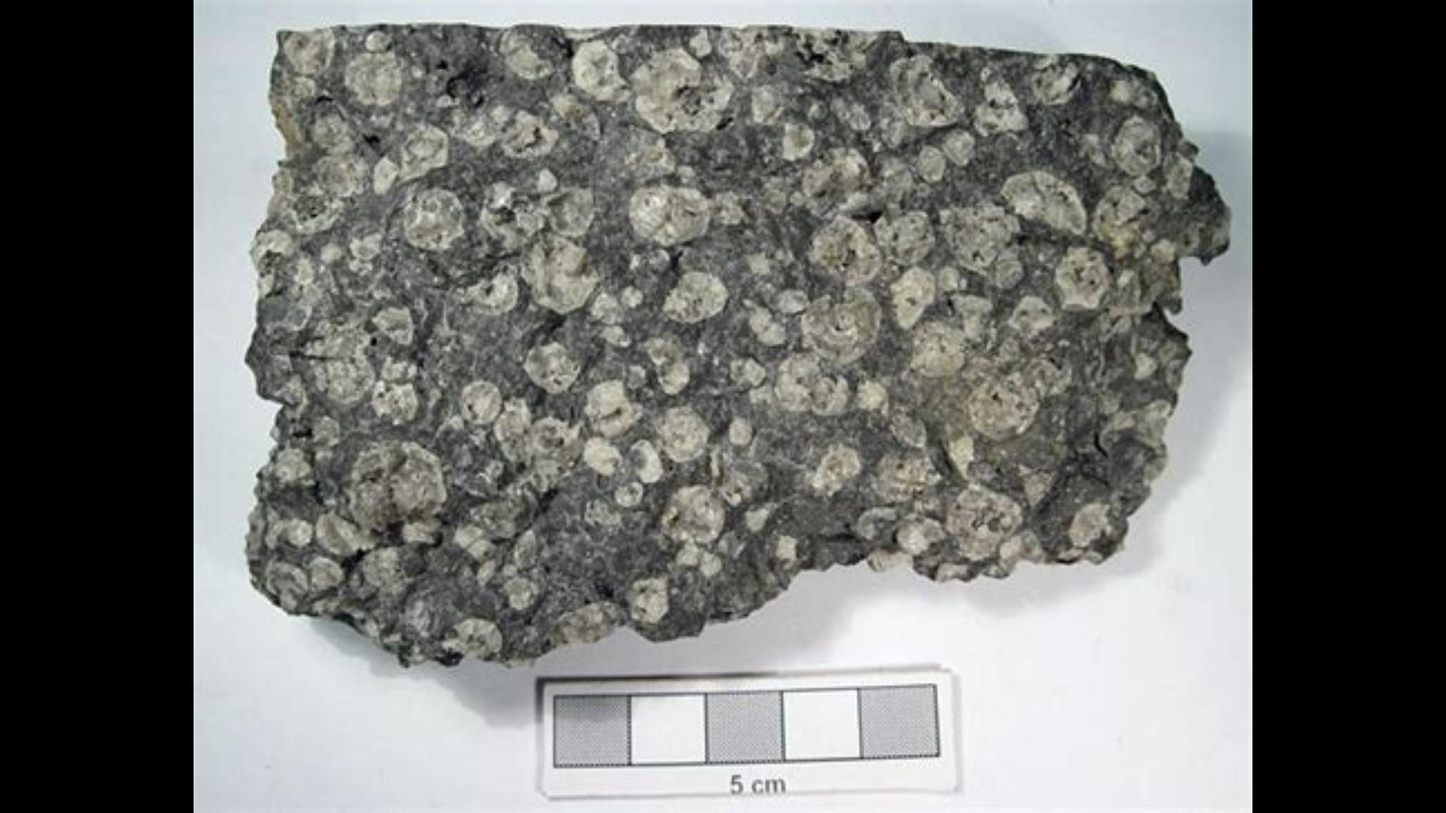rock: (245, 27, 1226, 663)
